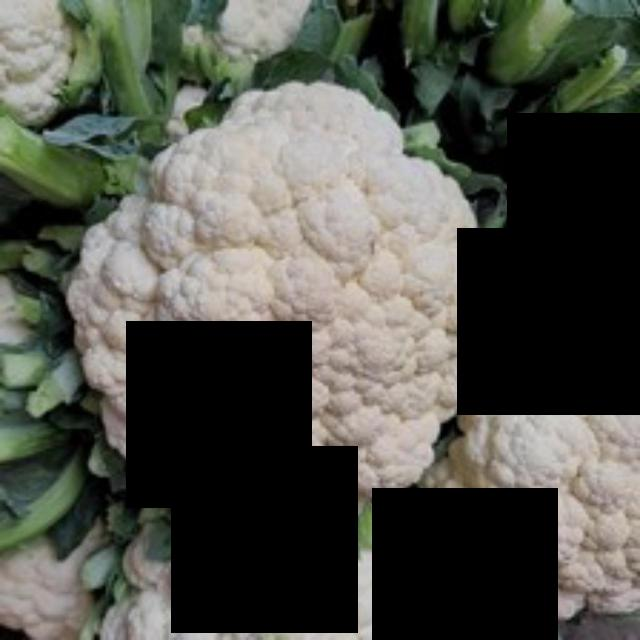cauliflower: (56, 76, 509, 562)
